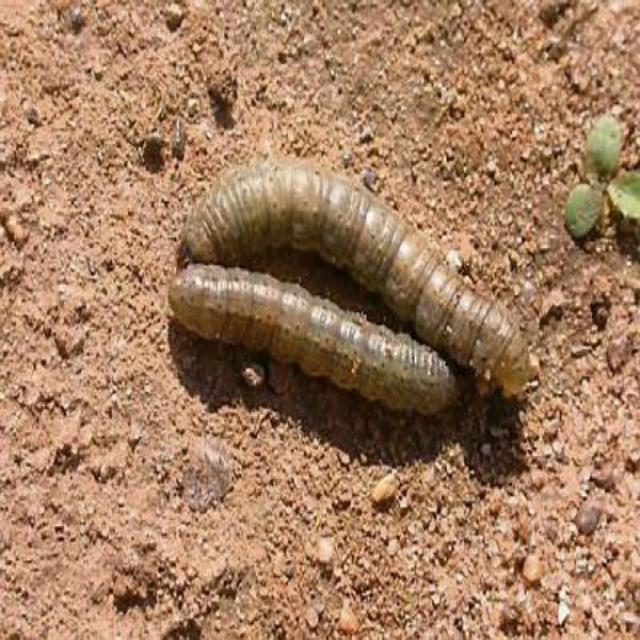worm: (169, 154, 540, 415), (166, 261, 463, 418)
